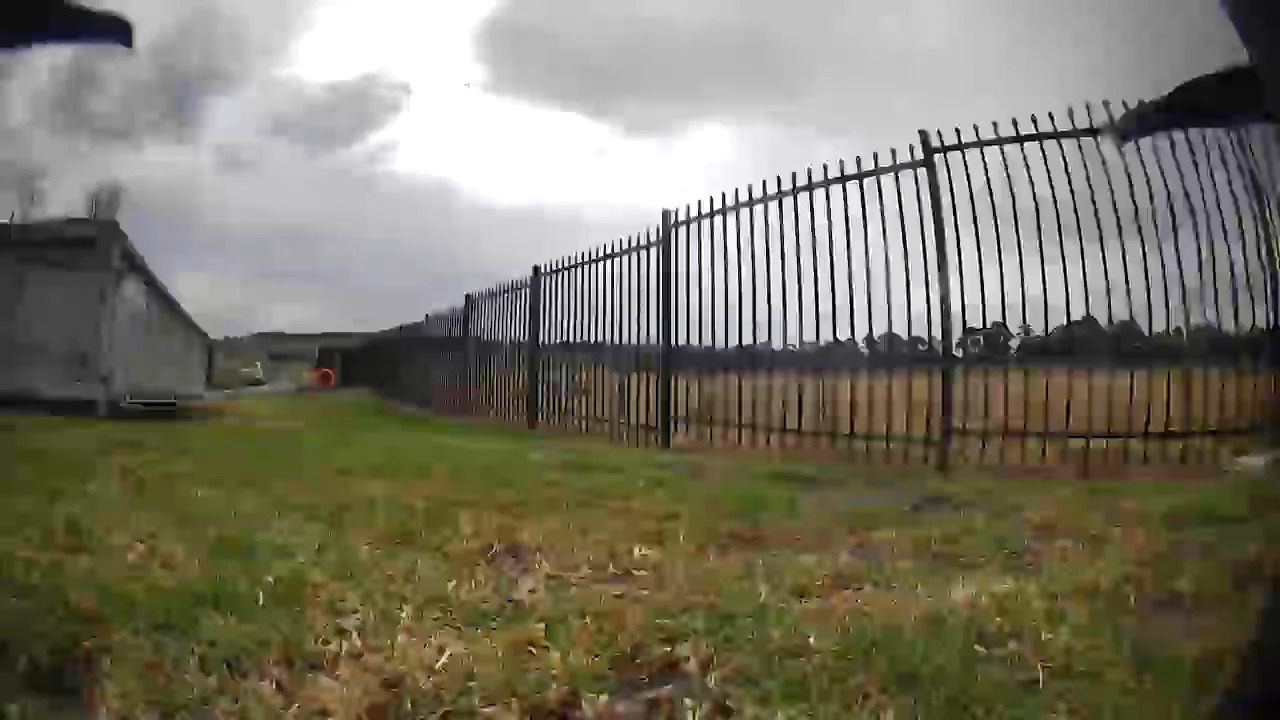Car: (239, 361, 265, 385)
